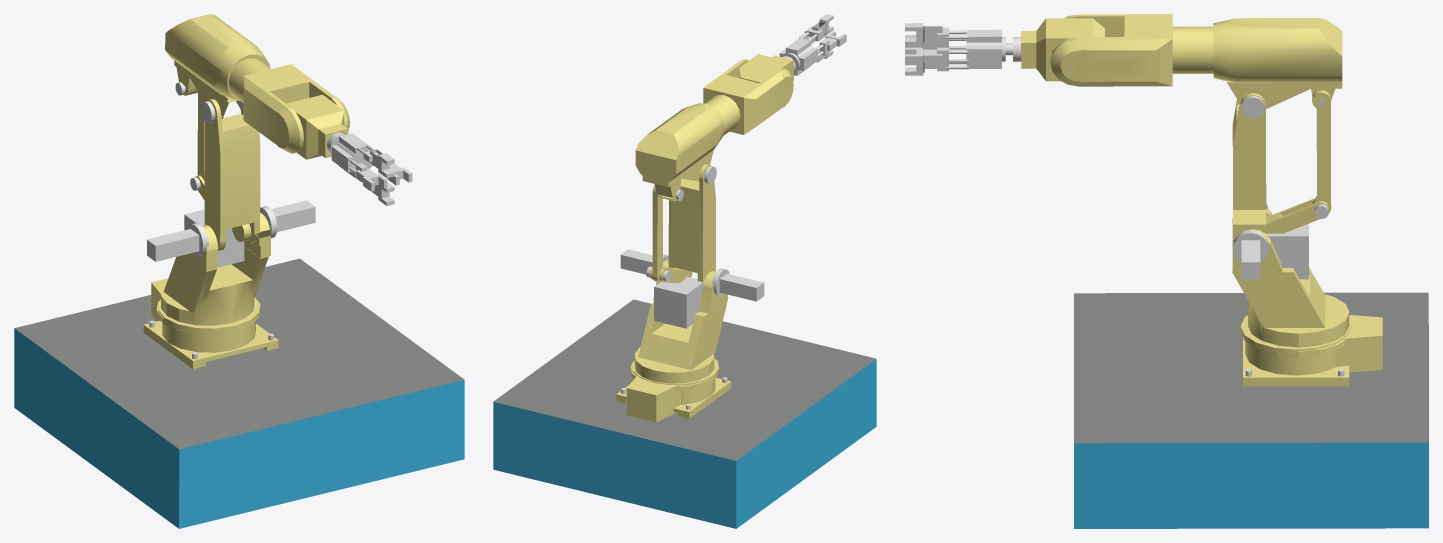
Rendered from robot.glb.
3 views of the same model, side by side, from view 1: azimuth 30°, elevation 25°; view 2: azimuth 150°, elevation 25°; view 3: azimuth 270°, elevation 25° (orthographic). The views are drawn at different scales.
Parts seen in each view (by area): view 1: Shape_IndexedFaceSet.005, Shape_IndexedFaceSet.006, Shape_IndexedFaceSet.008, Shape_IndexedFaceSet.009, Shape_IndexedFaceSet.020, Shape_IndexedFaceSet.018, Shape_IndexedFaceSet.004, Shape_IndexedFaceSet.021, Shape_IndexedFaceSet.007, Shape_IndexedFaceSet.011, Shape_IndexedFaceSet.031, Shape_IndexedFaceSet.010 (+3 smaller); view 2: Shape_IndexedFaceSet.006, Shape_IndexedFaceSet.005, Shape_IndexedFaceSet.008, Shape_IndexedFaceSet.018, Shape_IndexedFaceSet.009, Shape_IndexedFaceSet.020, Shape_IndexedFaceSet.004, Cube.001, Shape_IndexedFaceSet.031, Shape_IndexedFaceSet.011, Shape_IndexedFaceSet.021, Shape_IndexedFaceSet.014 (+2 smaller); view 3: Shape_IndexedFaceSet.005, Shape_IndexedFaceSet.006, Shape_IndexedFaceSet.018, Shape_IndexedFaceSet.020, Shape_IndexedFaceSet.008, Shape_IndexedFaceSet.004, Shape_IndexedFaceSet.009, Shape_IndexedFaceSet.031, Shape_IndexedFaceSet.021, Shape_IndexedFaceSet.007, Shape_IndexedFaceSet.014, Cube.001 (+3 smaller).
Part boxes in pixels (x1,y1,x2,y2): Shape_IndexedFaceSet.005: (14, 258, 464, 449); Shape_IndexedFaceSet.006: (14, 328, 464, 528); Shape_IndexedFaceSet.008: (156, 212, 270, 334); Shape_IndexedFaceSet.009: (204, 99, 260, 251); Shape_IndexedFaceSet.020: (228, 58, 349, 153); Shape_IndexedFaceSet.018: (165, 14, 270, 119); Shape_IndexedFaceSet.004: (151, 278, 260, 352); Shape_IndexedFaceSet.021: (286, 94, 348, 159); Shape_IndexedFaceSet.007: (143, 320, 278, 368); Shape_IndexedFaceSet.011: (147, 222, 208, 261); Shape_IndexedFaceSet.031: (330, 133, 391, 190); Shape_IndexedFaceSet.010: (260, 200, 315, 238); Shape_IndexedFaceSet.006: (493, 359, 876, 528); Shape_IndexedFaceSet.005: (493, 299, 876, 460); Shape_IndexedFaceSet.008: (630, 259, 727, 390); Shape_IndexedFaceSet.018: (635, 103, 725, 187); Shape_IndexedFaceSet.009: (668, 164, 715, 282); Shape_IndexedFaceSet.020: (703, 59, 793, 134); Shape_IndexedFaceSet.004: (626, 358, 718, 422); Cube.001: (654, 276, 703, 328); Shape_IndexedFaceSet.031: (779, 27, 829, 75); Shape_IndexedFaceSet.011: (711, 268, 764, 301); Shape_IndexedFaceSet.021: (739, 54, 793, 83); Shape_IndexedFaceSet.014: (652, 185, 663, 282); Shape_IndexedFaceSet.005: (1074, 292, 1428, 443); Shape_IndexedFaceSet.006: (1074, 324, 1428, 528); Shape_IndexedFaceSet.018: (1213, 18, 1342, 108); Shape_IndexedFaceSet.020: (1050, 14, 1213, 86); Shape_IndexedFaceSet.008: (1232, 208, 1349, 356); Shape_IndexedFaceSet.004: (1240, 315, 1382, 375); Shape_IndexedFaceSet.009: (1232, 93, 1266, 242); Shape_IndexedFaceSet.031: (937, 27, 1016, 71); Shape_IndexedFaceSet.021: (1021, 18, 1104, 81); Shape_IndexedFaceSet.007: (1243, 337, 1349, 386); Shape_IndexedFaceSet.014: (1312, 90, 1331, 213); Cube.001: (1266, 216, 1308, 279).
Bounding box in the file's own units: 15 × 19.89 × 22.14.
